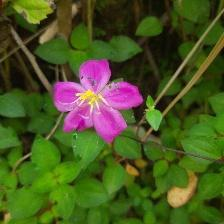malabar melastome: (53, 58, 146, 144)
